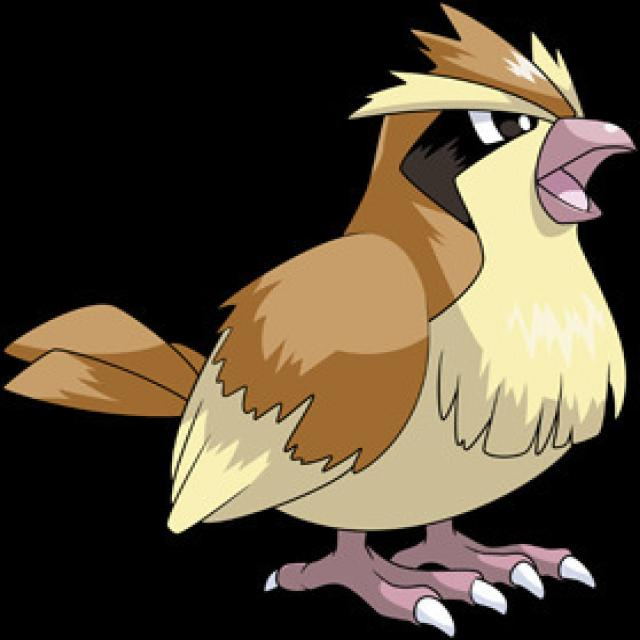Pidgey: (34, 10, 602, 604)
